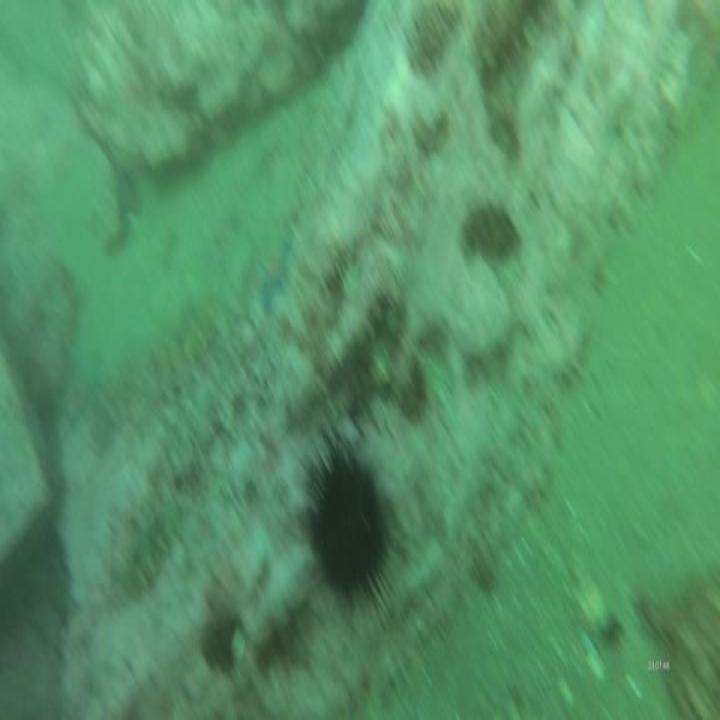echinus: (308, 441, 389, 606)
holothurian: (112, 505, 176, 601), (156, 283, 221, 362)
starfish: (251, 238, 293, 322)
